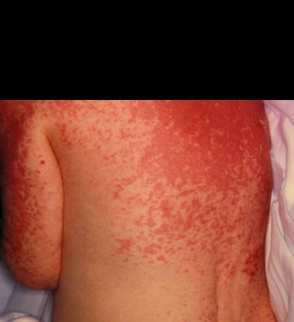SJS-TEN: (0, 99, 285, 322)
